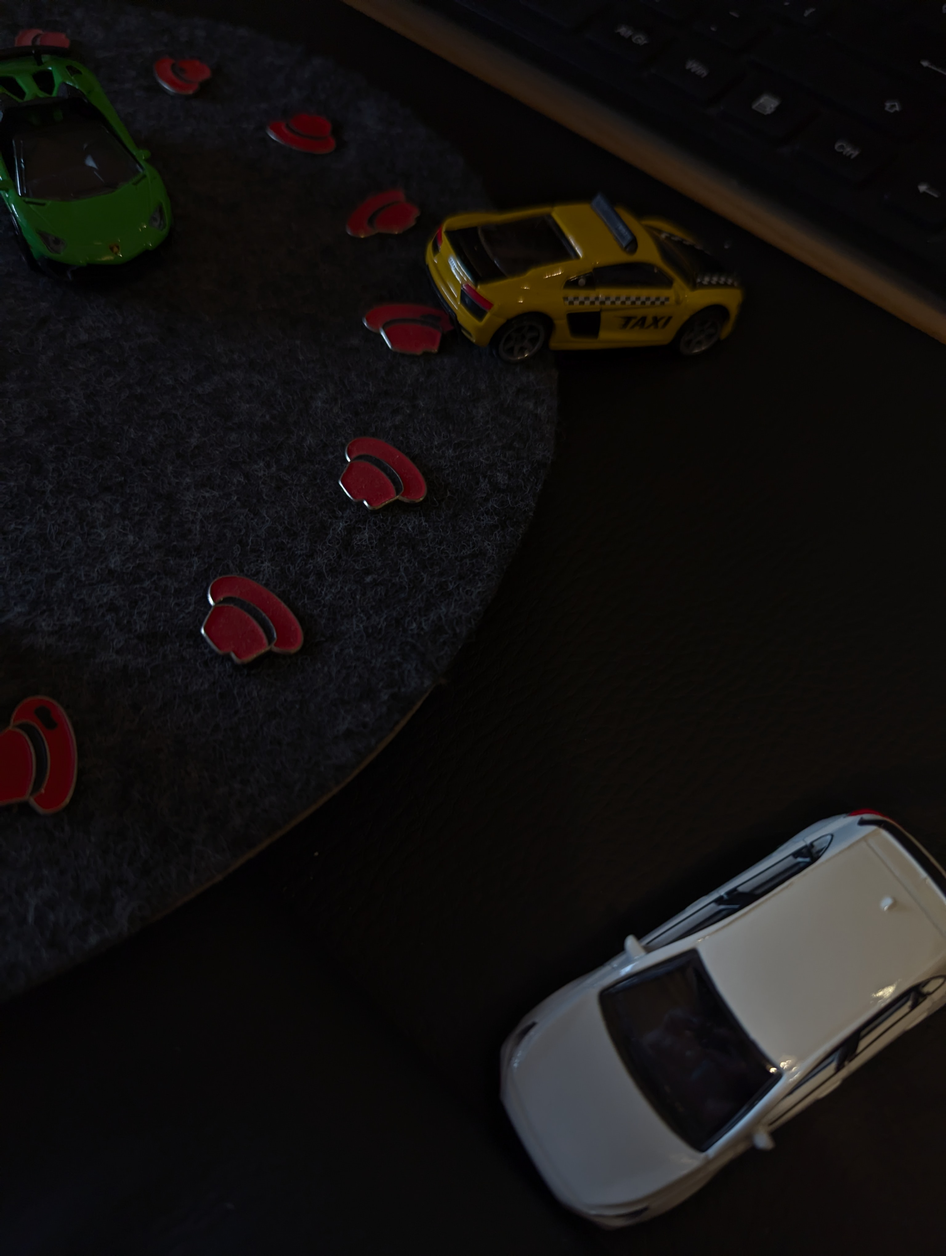Car: (474, 760, 946, 1256), (392, 188, 765, 387), (0, 31, 195, 292)
Red-Hat: (189, 560, 314, 670), (0, 681, 93, 817), (317, 429, 442, 524), (341, 282, 464, 366), (323, 180, 428, 248), (260, 113, 349, 164), (144, 42, 219, 102)
Scratch: (28, 691, 68, 758)
